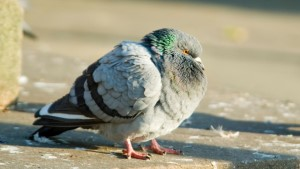pigeon: (30, 25, 210, 161)
